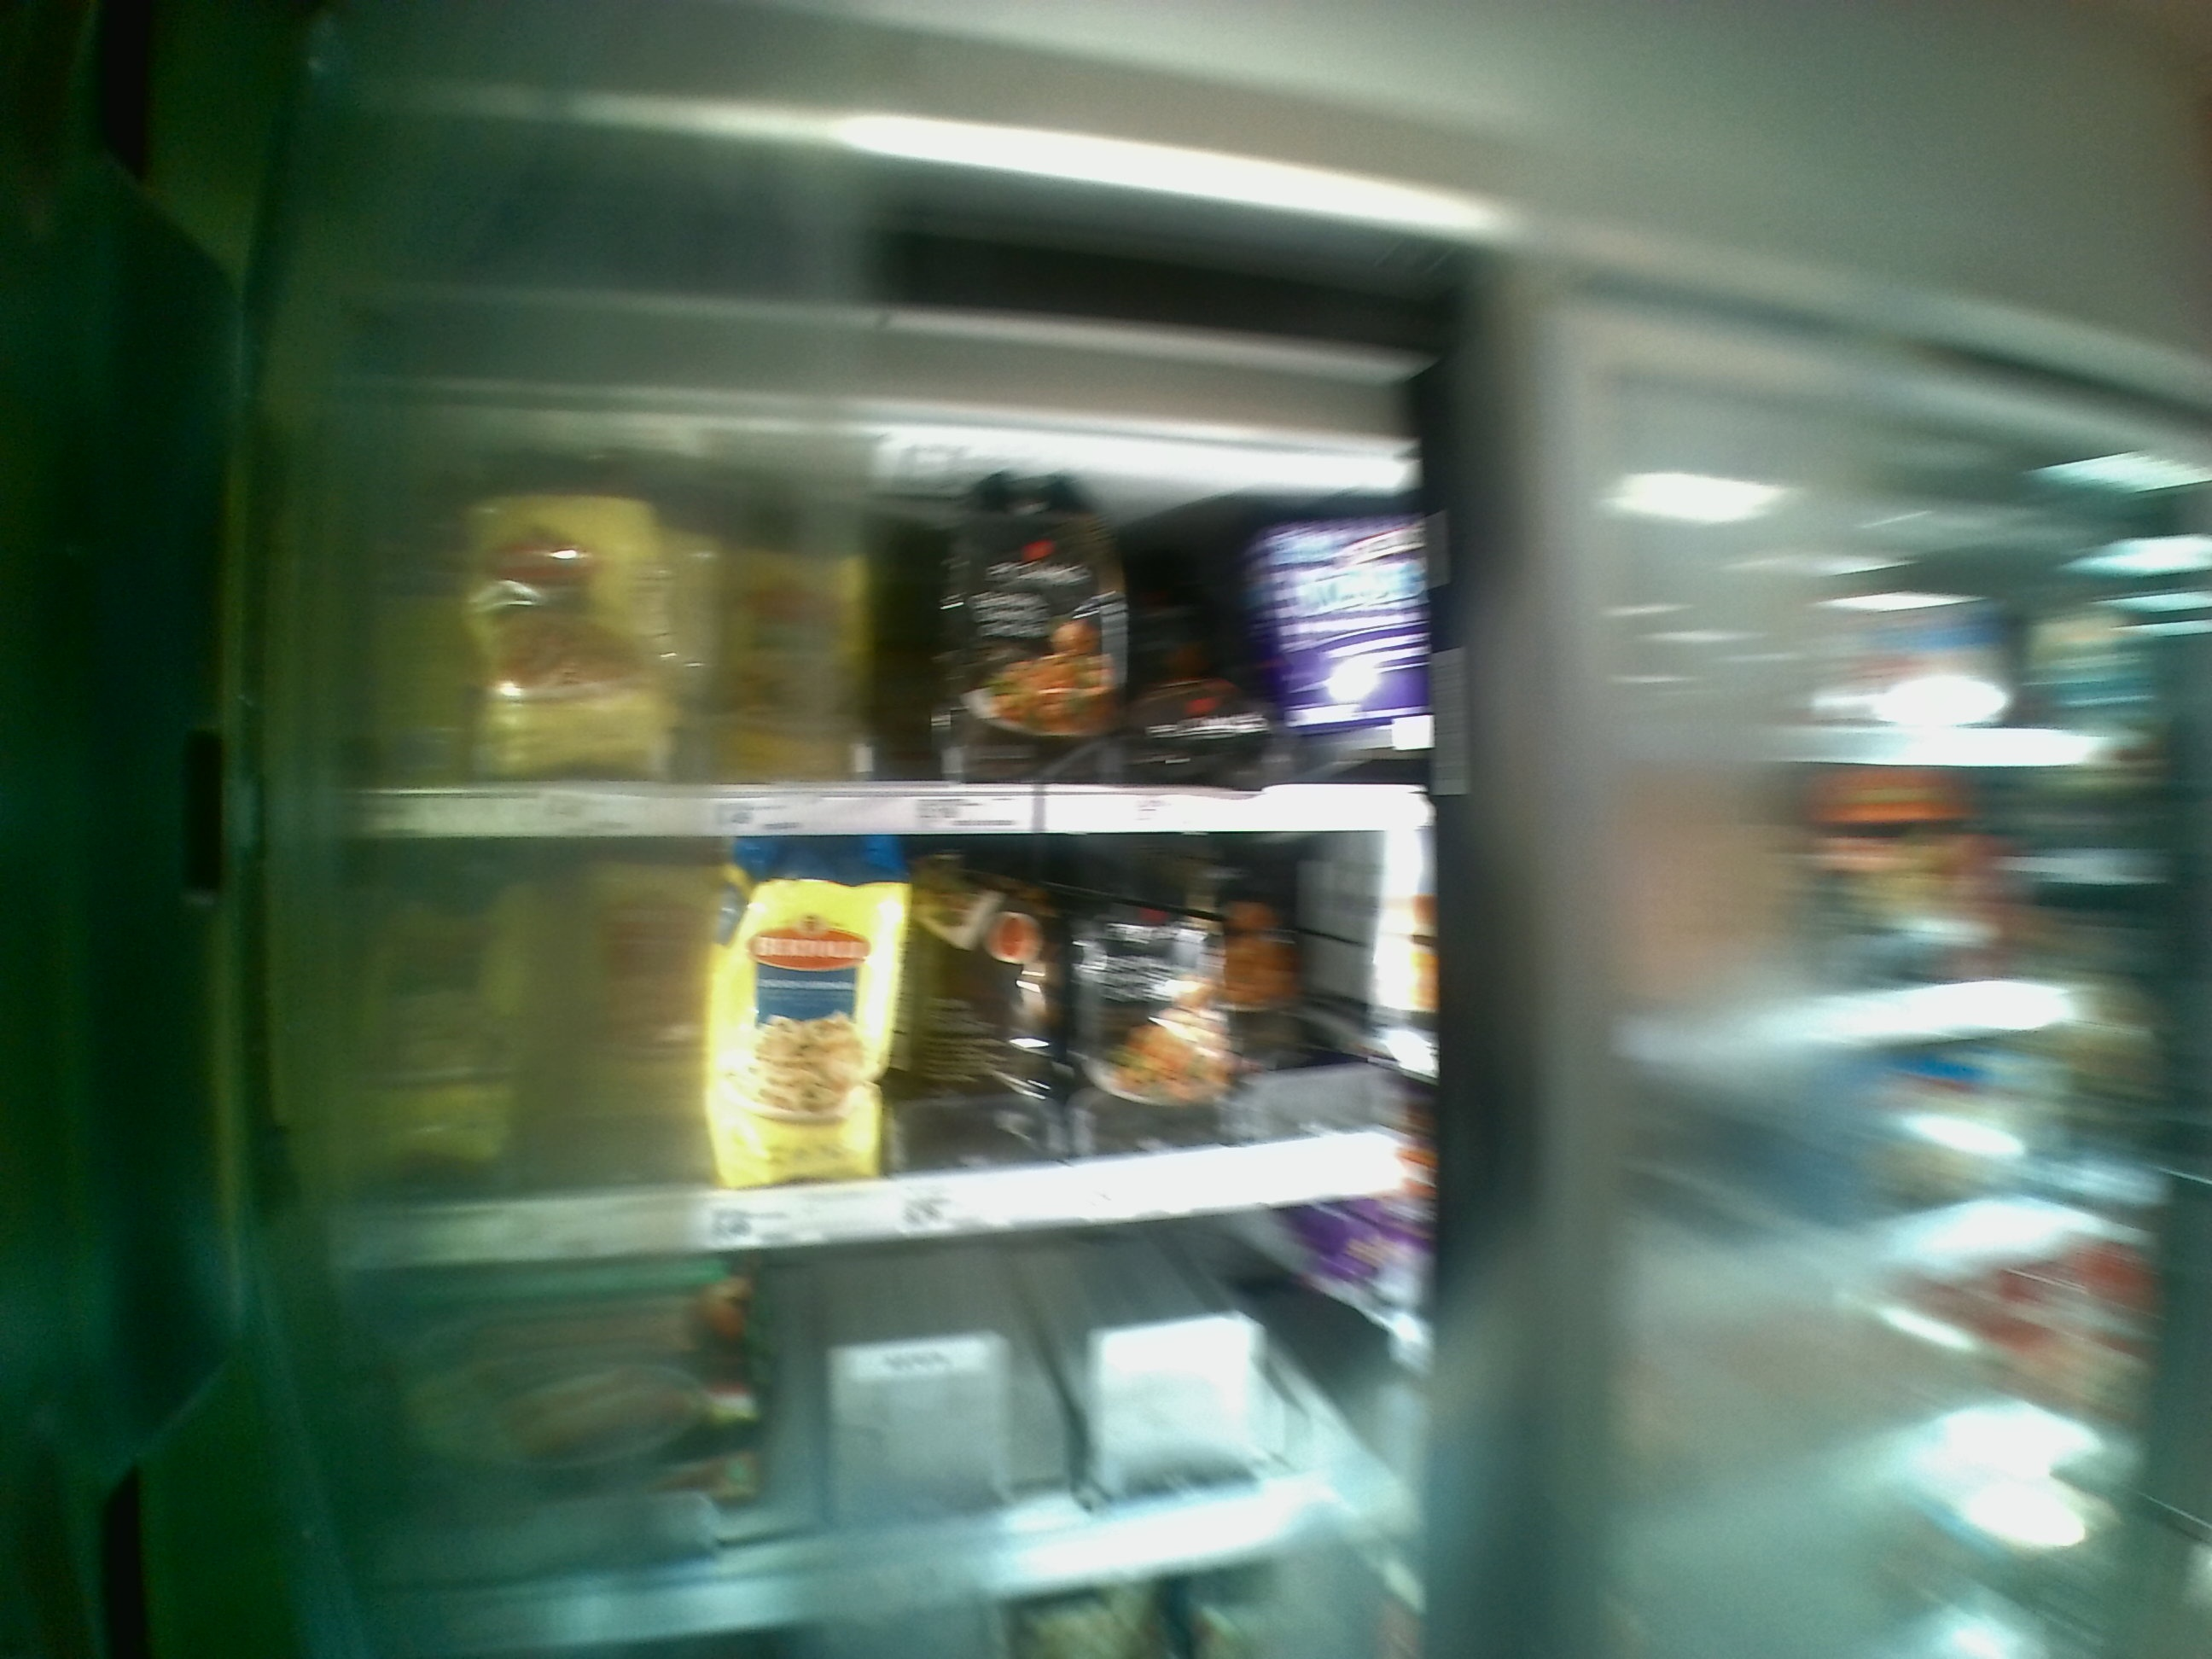shelf: (324, 840, 1446, 1243), (327, 411, 1406, 829), (354, 1249, 1406, 1636)
